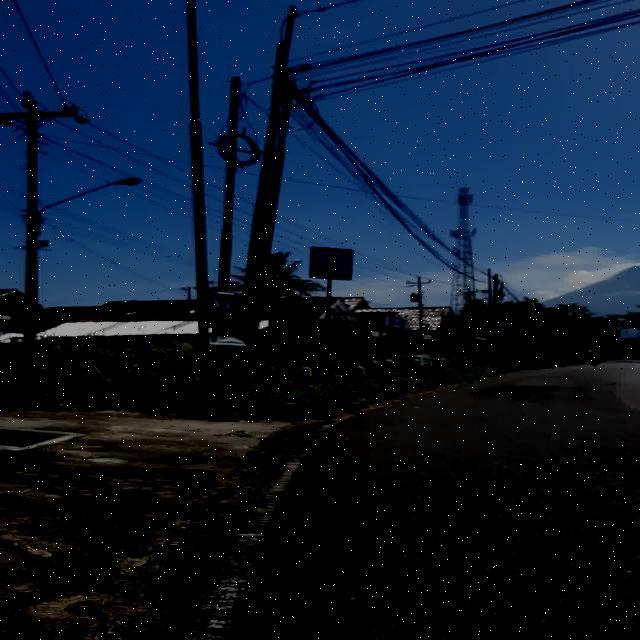Gereja: (309, 247, 353, 280)
